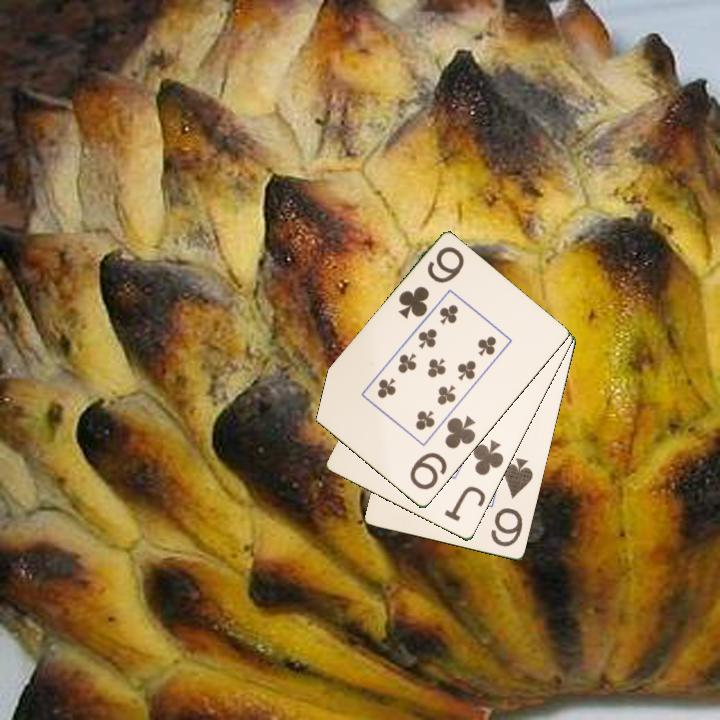6s: (487, 455, 536, 550)
9c: (406, 412, 479, 493), (395, 243, 467, 322)
Jc: (441, 437, 507, 525)
